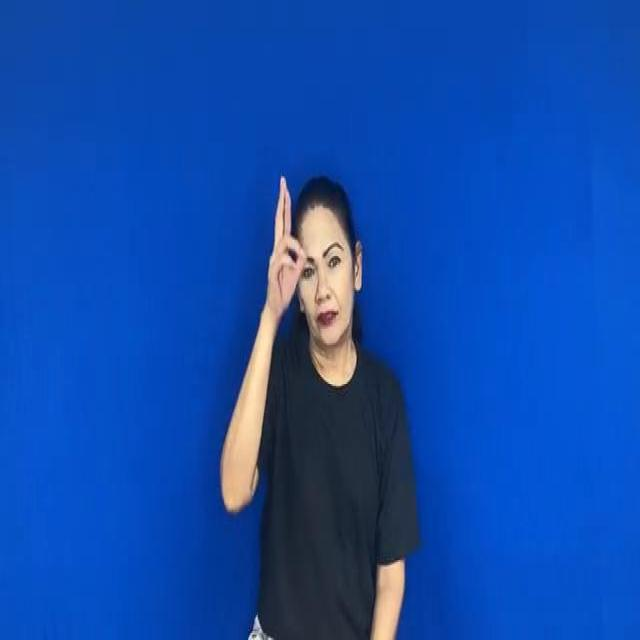chicken: (261, 171, 313, 315)
